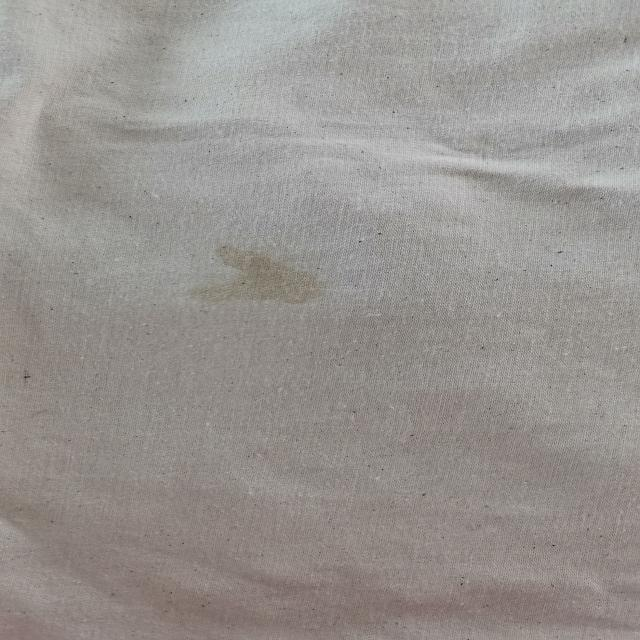taaaches: (195, 240, 338, 322)
